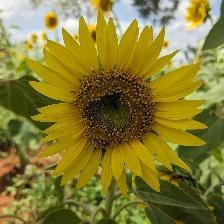sunflower: (24, 11, 211, 200)
